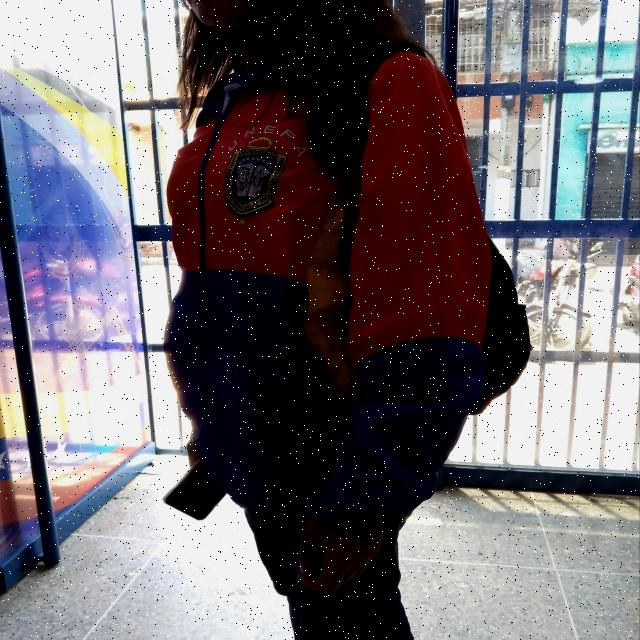chaqueta_unefa: (164, 49, 496, 540)
